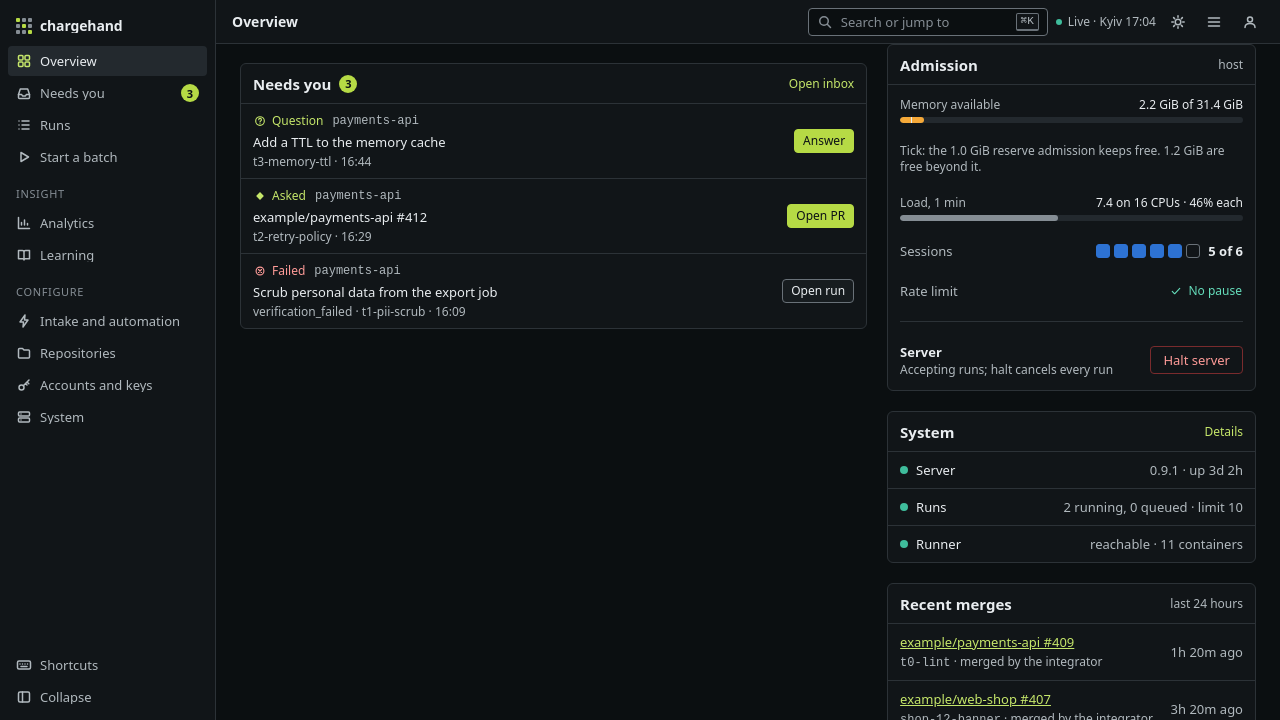
Overview halted and paused › asks before halting, says what stops, and halts only on the confirm
(page scrolled)
Click the button "Halt server" at (1197, 360), box [1150, 346, 1243, 374]
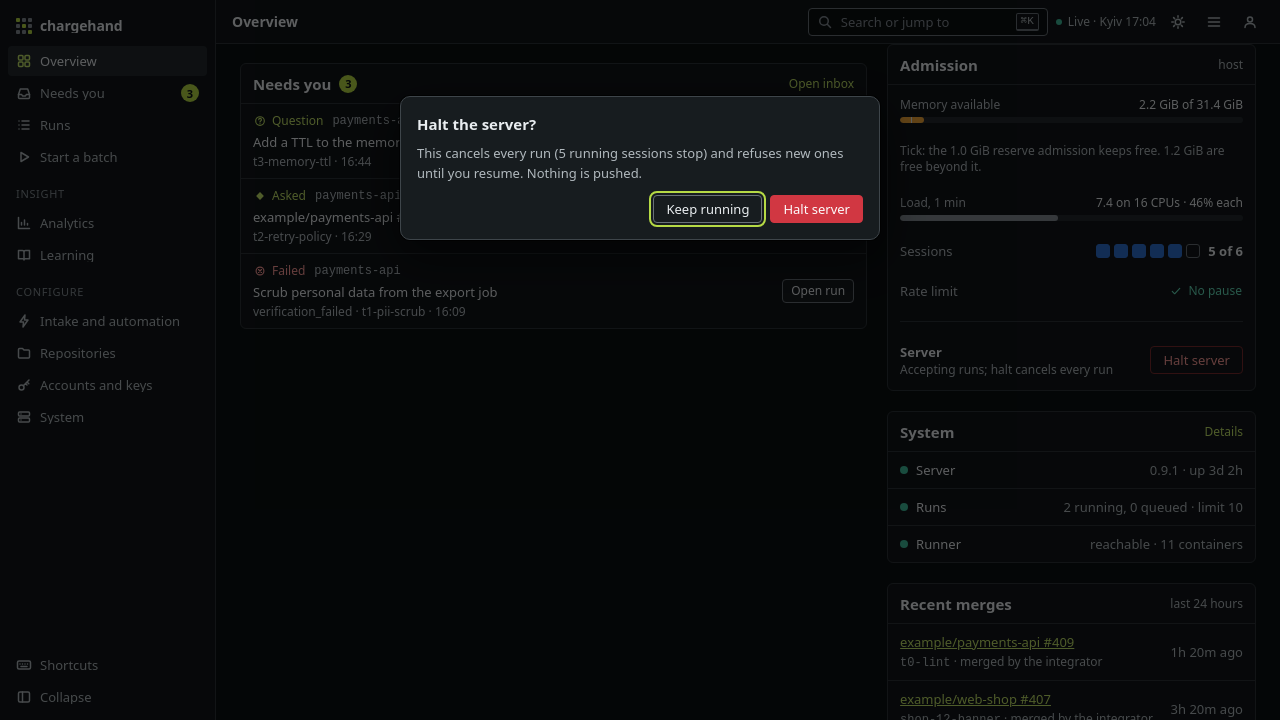
Expected: the text "Nothing is pushed" is shown, [417, 144, 843, 182]
Click the button "Keep running" at (708, 209), box [654, 195, 762, 223]
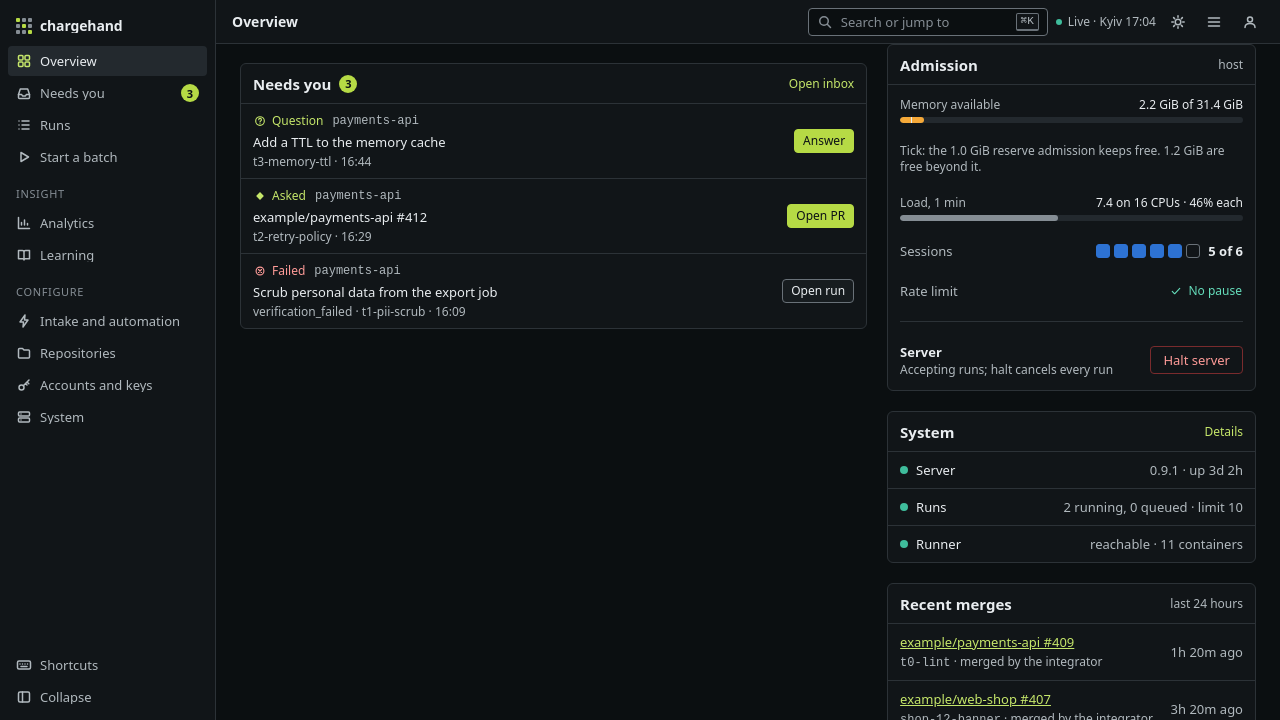
Expected: the dialog is gone
Click the button "Halt server" at (1197, 360), box [1150, 346, 1243, 374]
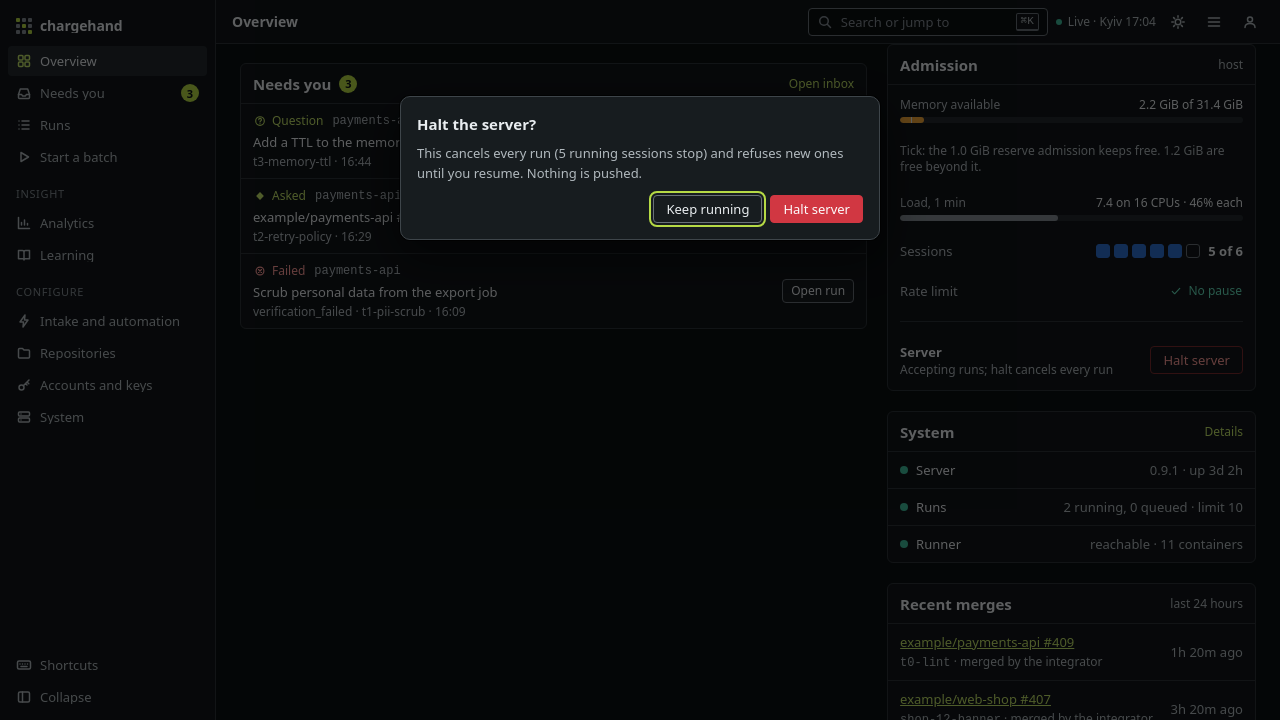
Click the button "Halt server" at (817, 209), box [770, 195, 863, 223]
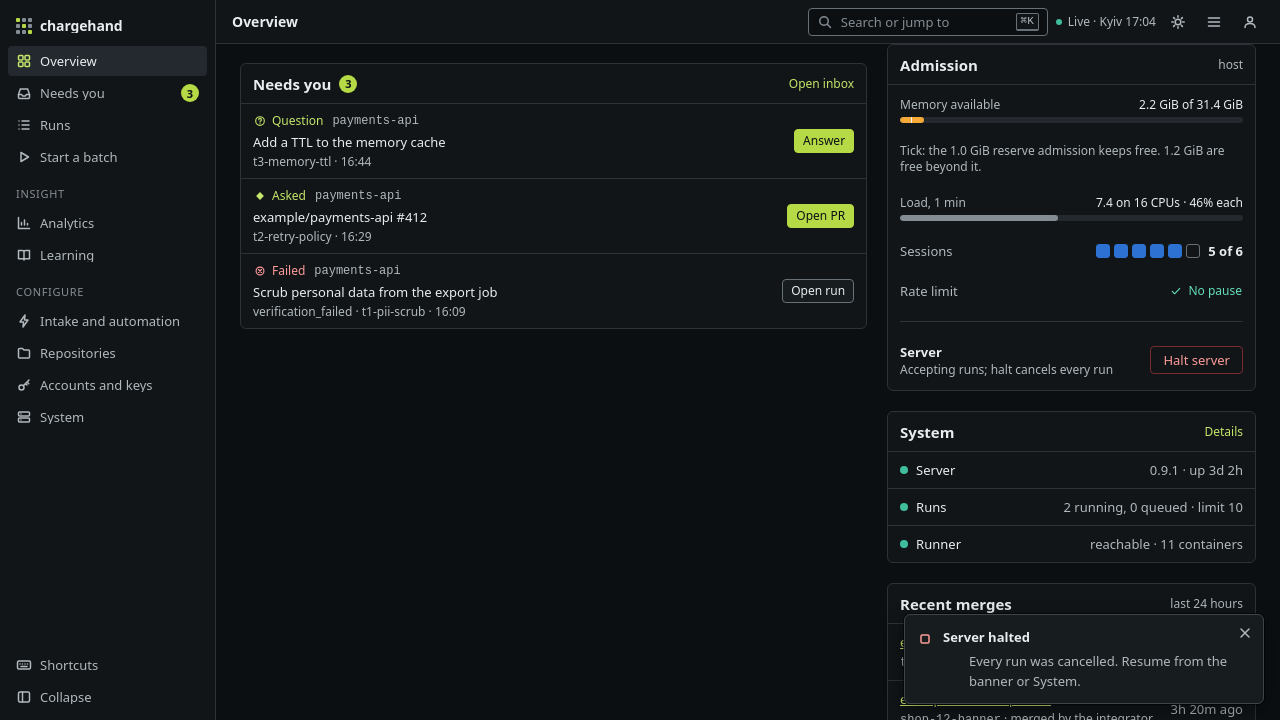
Expected: the text "Server halted" is shown, [943, 628, 1030, 646]
